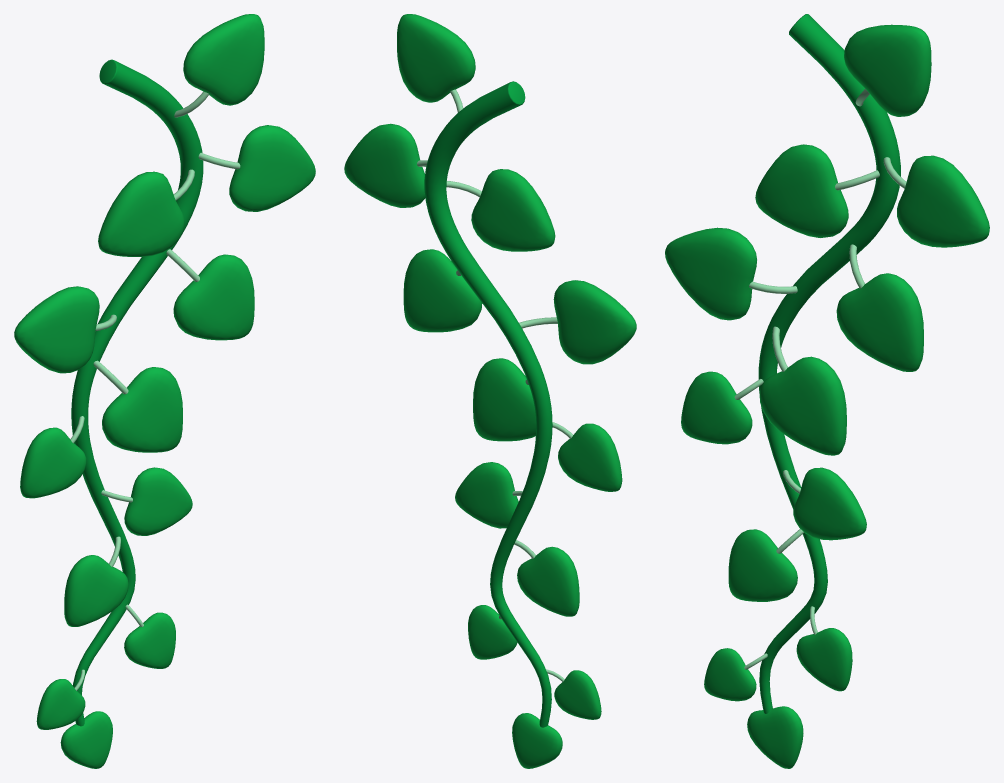
The model's file is City_18_Ivy_2.glb.
3 views of the same model, side by side, from view 1: azimuth 30°, elevation 25°; view 2: azimuth 150°, elevation 25°; view 3: azimuth 330°, elevation 25° (orthographic). The views are drawn at different scales.
Visible parts, largest first — view 1: City_18_Ivy_2; view 2: City_18_Ivy_2; view 3: City_18_Ivy_2.
Part boxes in pixels (left/top/right/bottom): City_18_Ivy_2: left=14, top=14, right=315, bottom=768; City_18_Ivy_2: left=344, top=14, right=636, bottom=768; City_18_Ivy_2: left=665, top=14, right=989, bottom=768.
Bounding box in the file's own units: 3.45 × 8.03 × 0.5862.
Materials: 1 (1 with a texture image).
